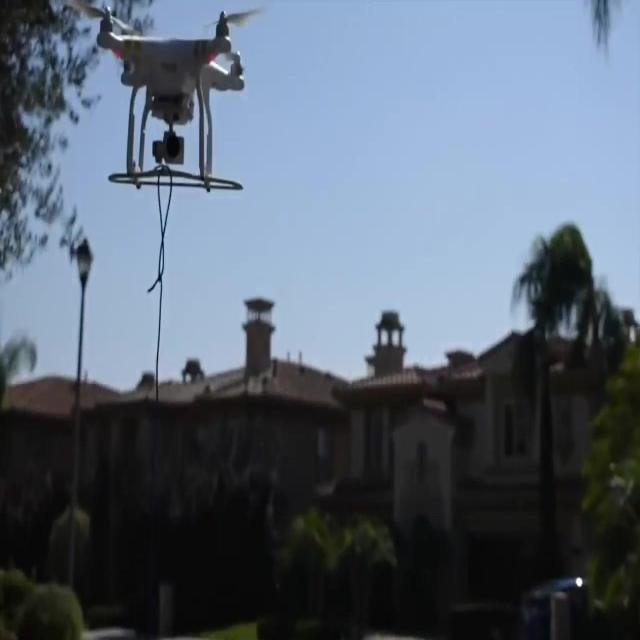drone: (63, 0, 264, 192)
